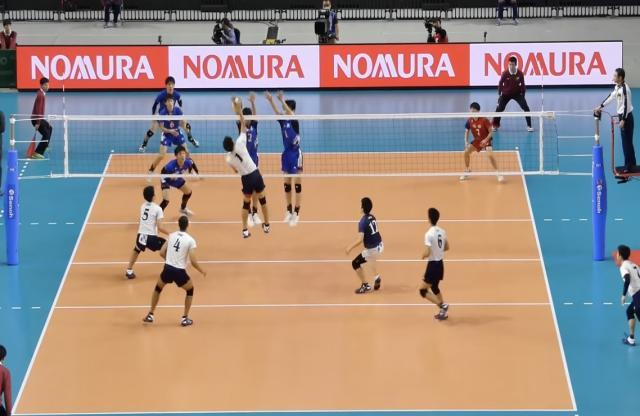spike: (218, 96, 274, 242)
